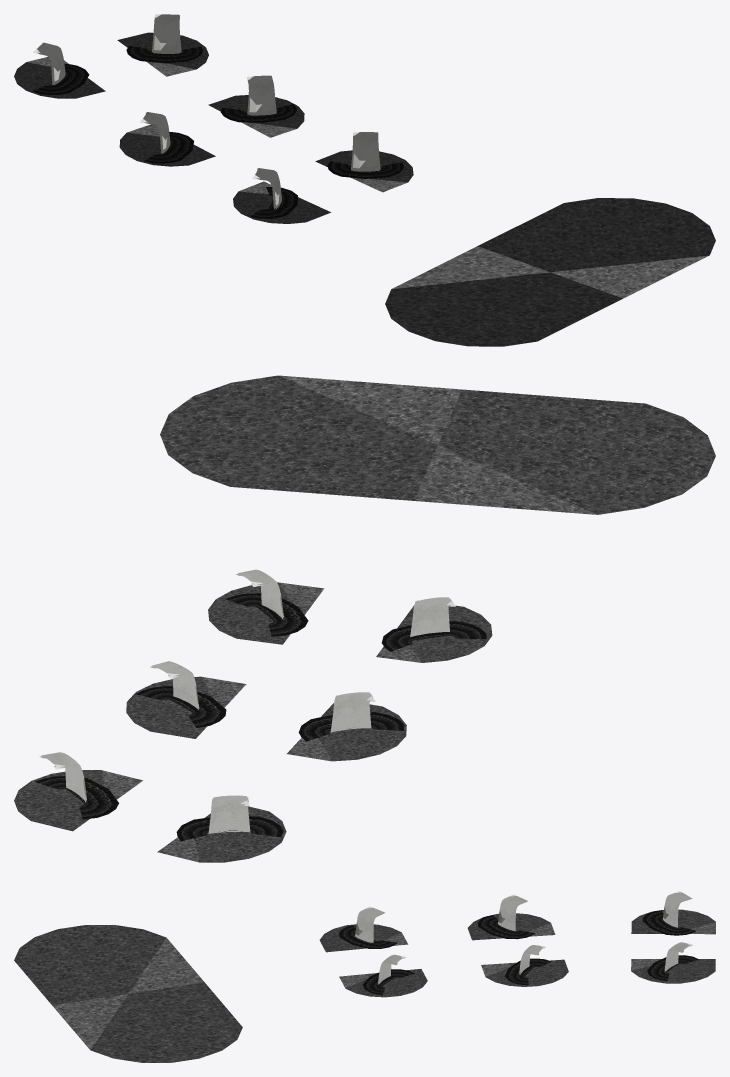
Rendered from stg110_MotWater_02.obj.
3 renders of one model, top to bottom at view 1: azimuth 30°, elevation 25°; view 2: azimuth 150°, elevation 25°; view 3: azimuth 270°, elevation 25°, orthographic. The views are drawn at different scales.
Parts seen in each view (by area): view 1: polygon20, polygon18, polygon19, polygon21, polygon6, polygon4, polygon2, polygon15, polygon17, polygon16, polygon13, polygon14 (+2 smaller); view 2: polygon20, polygon21, polygon19, polygon18, polygon13, polygon14, polygon15, polygon12, polygon11, polygon9, polygon17, polygon16 (+1 smaller); view 3: polygon20, polygon18, polygon21, polygon19, polygon16, polygon17, polygon0, polygon8, polygon14, polygon12, polygon13, polygon15 (+1 smaller).
Boxes of the visible parts, box(x1,y1,x2,y2) form: polygon20: box(385, 198, 715, 346); polygon18: box(233, 150, 413, 223); polygon19: box(119, 95, 304, 166); polygon21: box(14, 32, 208, 98); polygon6: box(153, 14, 179, 53); polygon4: box(248, 75, 275, 115); polygon2: box(352, 132, 378, 171); polygon15: box(126, 45, 202, 63); polygon17: box(32, 63, 89, 94); polygon16: box(144, 132, 193, 163); polygon13: box(327, 161, 403, 178); polygon14: box(221, 104, 296, 122); polygon20: box(160, 375, 715, 514); polygon21: box(14, 770, 286, 862); polygon19: box(126, 676, 406, 761); polygon18: box(208, 582, 492, 662); polygon13: box(225, 593, 308, 636); polygon14: box(135, 686, 226, 727); polygon15: box(35, 776, 118, 819); polygon12: box(381, 621, 486, 651); polygon11: box(208, 797, 250, 833); polygon9: box(330, 693, 375, 732); polygon17: box(176, 816, 283, 841); polygon16: box(298, 712, 404, 741); polygon20: box(14, 925, 242, 1062); polygon18: box(319, 924, 427, 997); polygon21: box(631, 909, 715, 983); polygon19: box(467, 913, 568, 986); polygon16: box(477, 915, 535, 939); polygon17: box(642, 910, 696, 935); polygon0: box(355, 906, 383, 942); polygon8: box(498, 894, 526, 930); polygon14: box(505, 958, 551, 985); polygon12: box(339, 925, 397, 948); polygon13: box(362, 969, 414, 995); polygon15: box(647, 955, 698, 981).
Bounding box in the file's own units: 759 × 69.35 × 1461.
